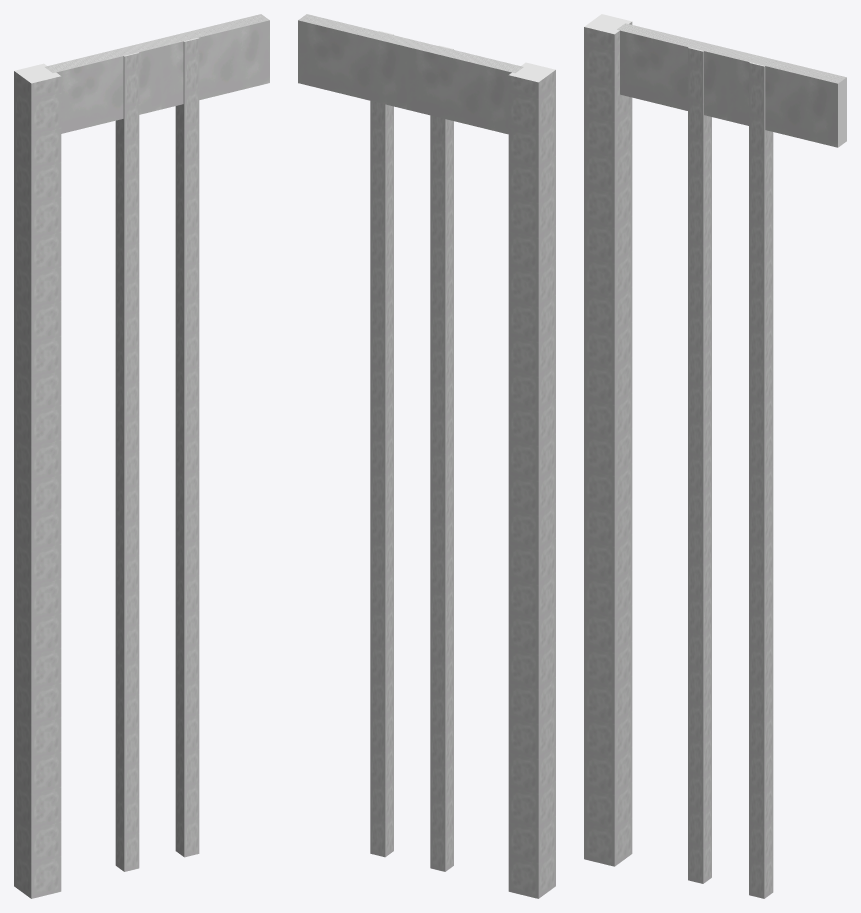
Rendered from MainBuilding_Wall_Height2.fbx.
3 renders of one model, left to right at view 1: azimuth 30°, elevation 25°; view 2: azimuth 150°, elevation 25°; view 3: azimuth 330°, elevation 25°, orthographic. The views are drawn at different scales.
Visible parts, largest first — view 1: node_id7 (×2); view 2: node_id7 (×2); view 3: node_id7 (×2).
Part boxes in pixels (<box>): node_id7 (×2): <box>14,14,269,898</box>; node_id7 (×2): <box>298,14,555,898</box>; node_id7 (×2): <box>584,14,846,898</box>.
Size of the model in its own units: 0.1601 by 0.512 by 0.0197.
2 materials, 1 textured.
